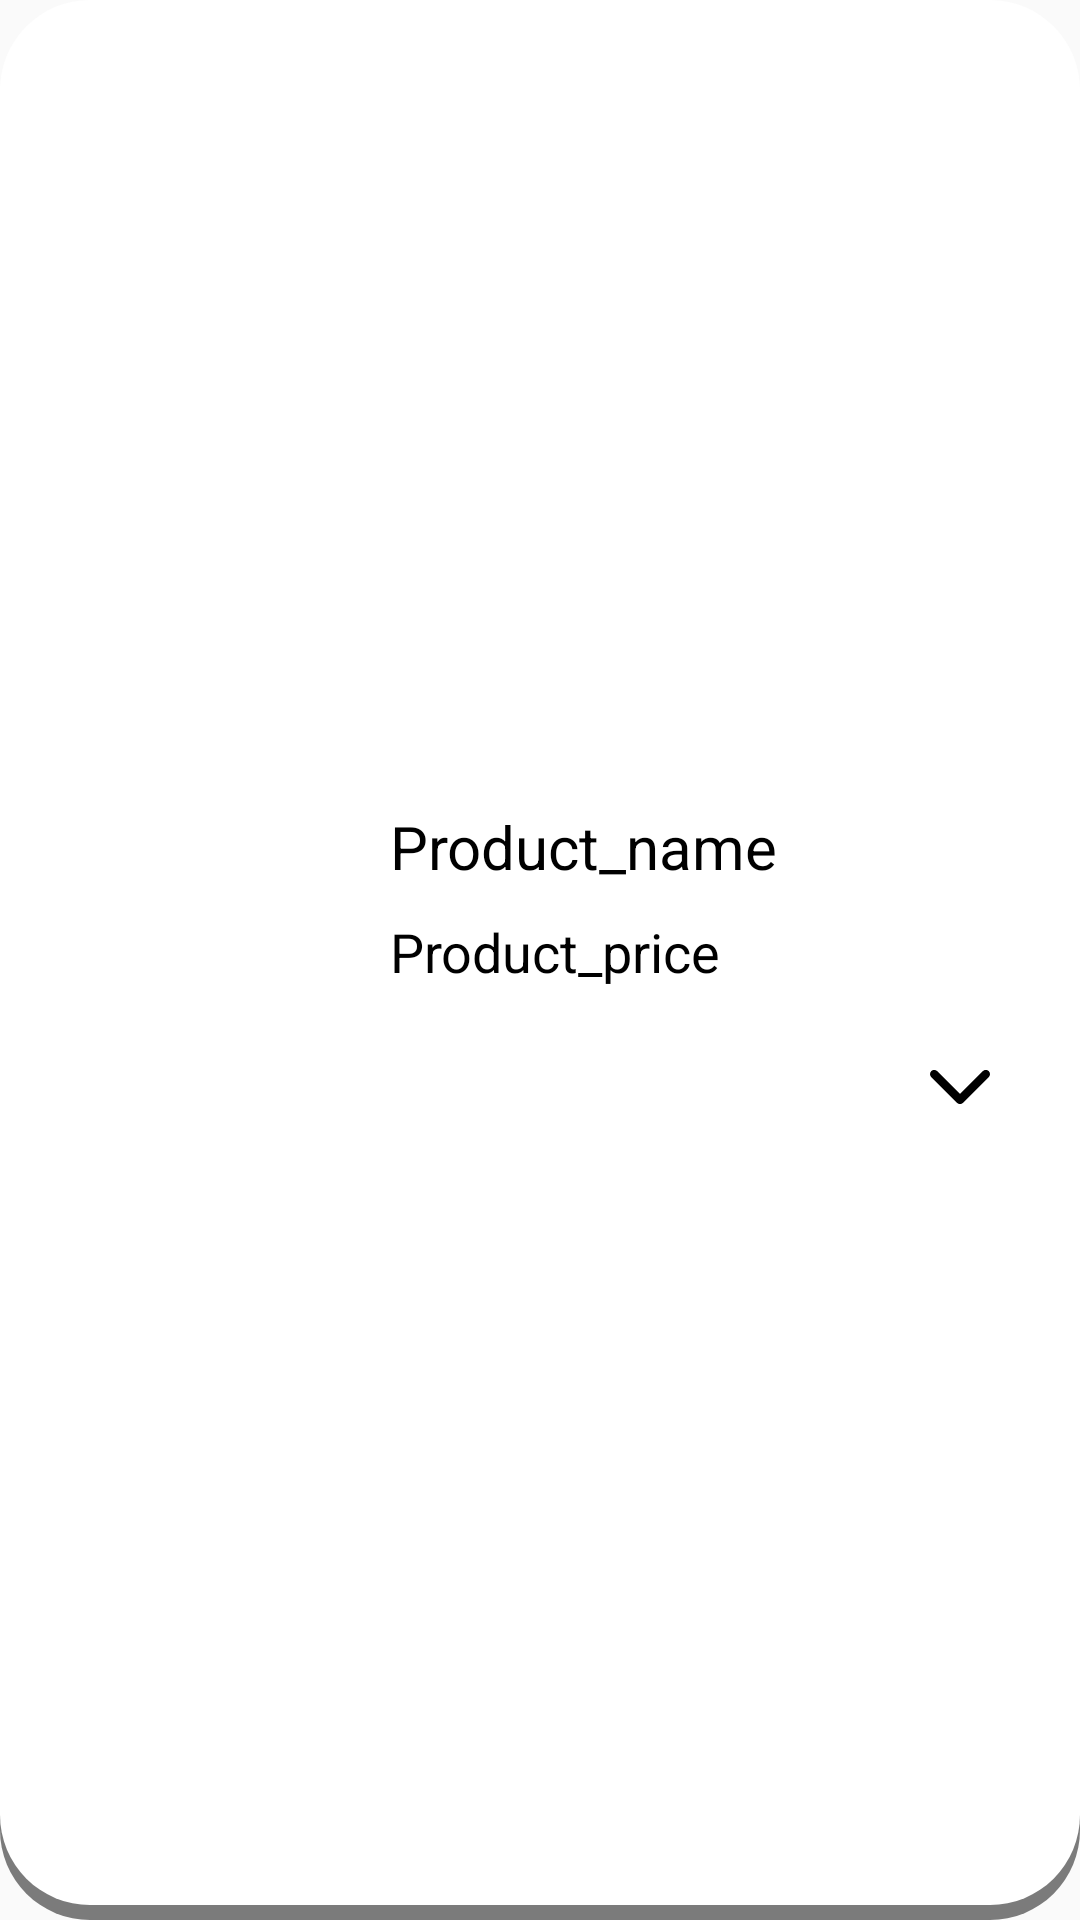

Icons on this 1080px×1920px Android screen, each with the point to tap as [x,y]:
down arrow: [960,1087]
